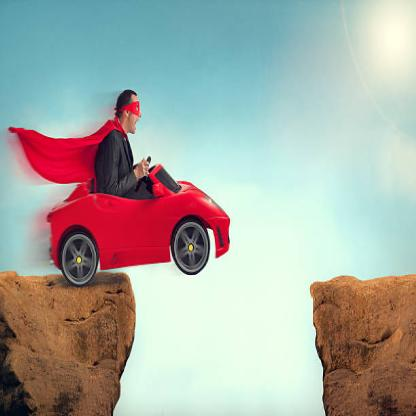car: (44, 162, 235, 272)
